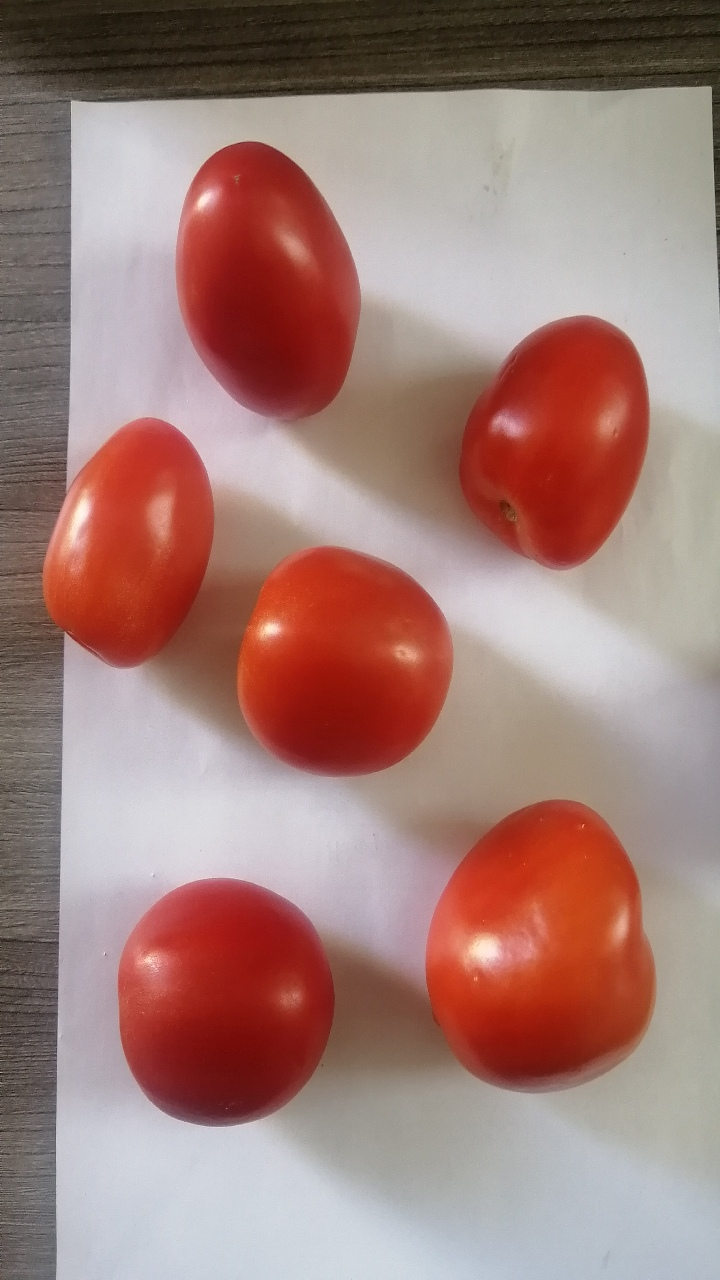tomateRojo: (120, 129, 414, 440), (404, 792, 666, 1102), (94, 865, 374, 1137), (437, 280, 663, 611), (17, 399, 240, 683), (234, 523, 458, 775)
